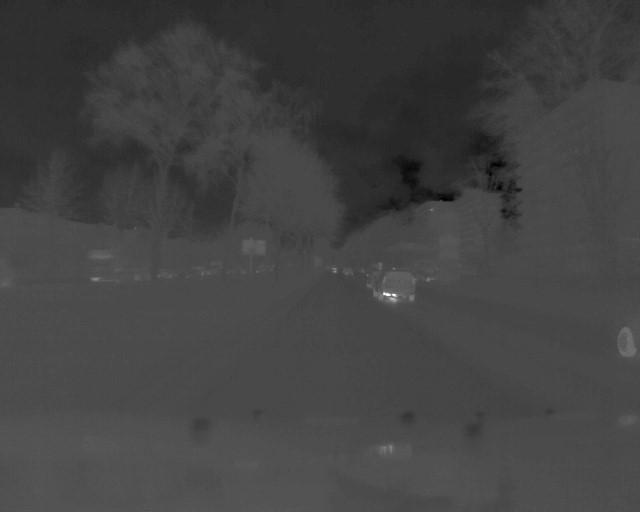car: (371, 269, 417, 304)
